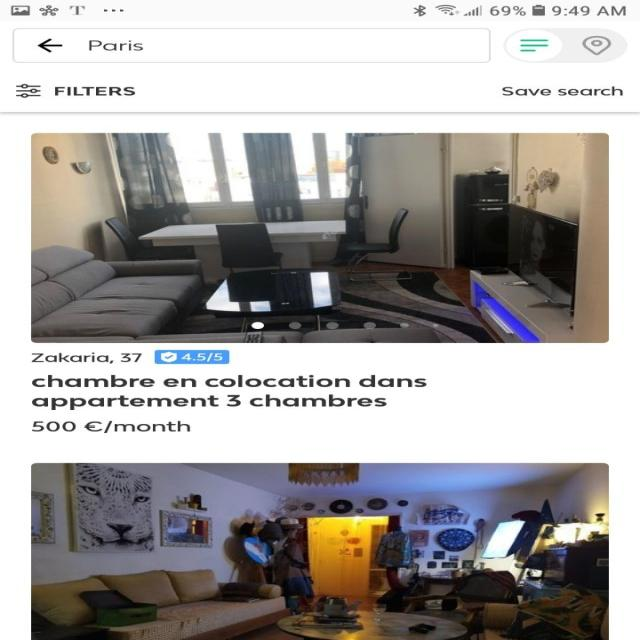EditText: (12, 28, 490, 63)
Icon: (505, 30, 561, 61), (580, 35, 610, 55), (16, 84, 41, 98), (38, 38, 62, 52)
Image: (31, 133, 609, 343), (31, 462, 609, 640), (154, 350, 230, 364)
Text: (31, 375, 426, 410), (31, 421, 190, 433), (31, 352, 142, 363), (502, 86, 622, 96), (54, 87, 136, 96), (89, 40, 143, 50)
